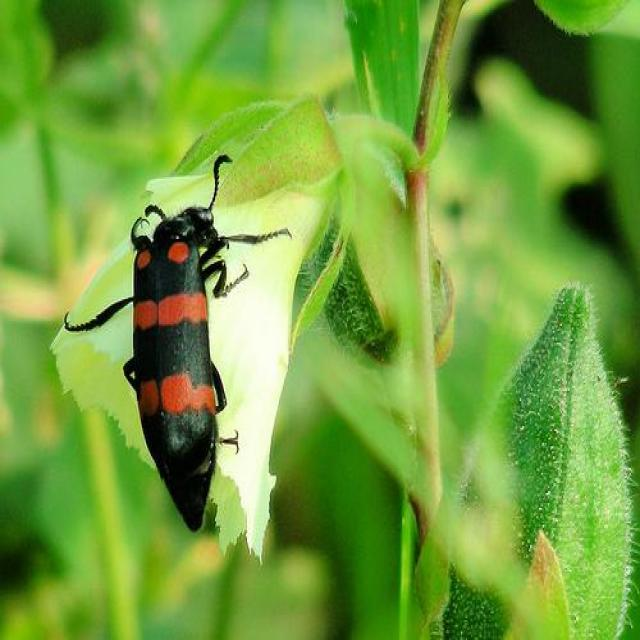BlisterBeetle-Adult-: (70, 141, 293, 534)
